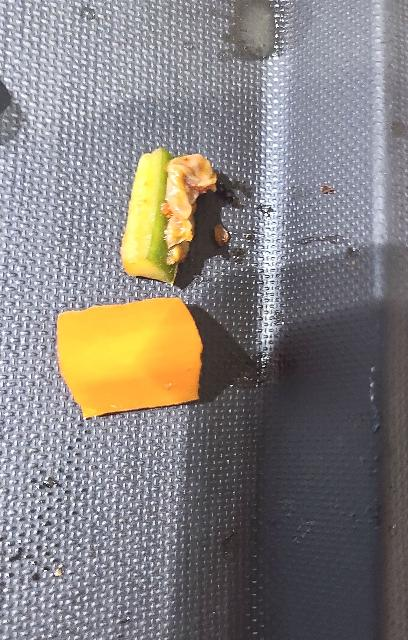Organik: (54, 295, 216, 423), (120, 143, 227, 294)
